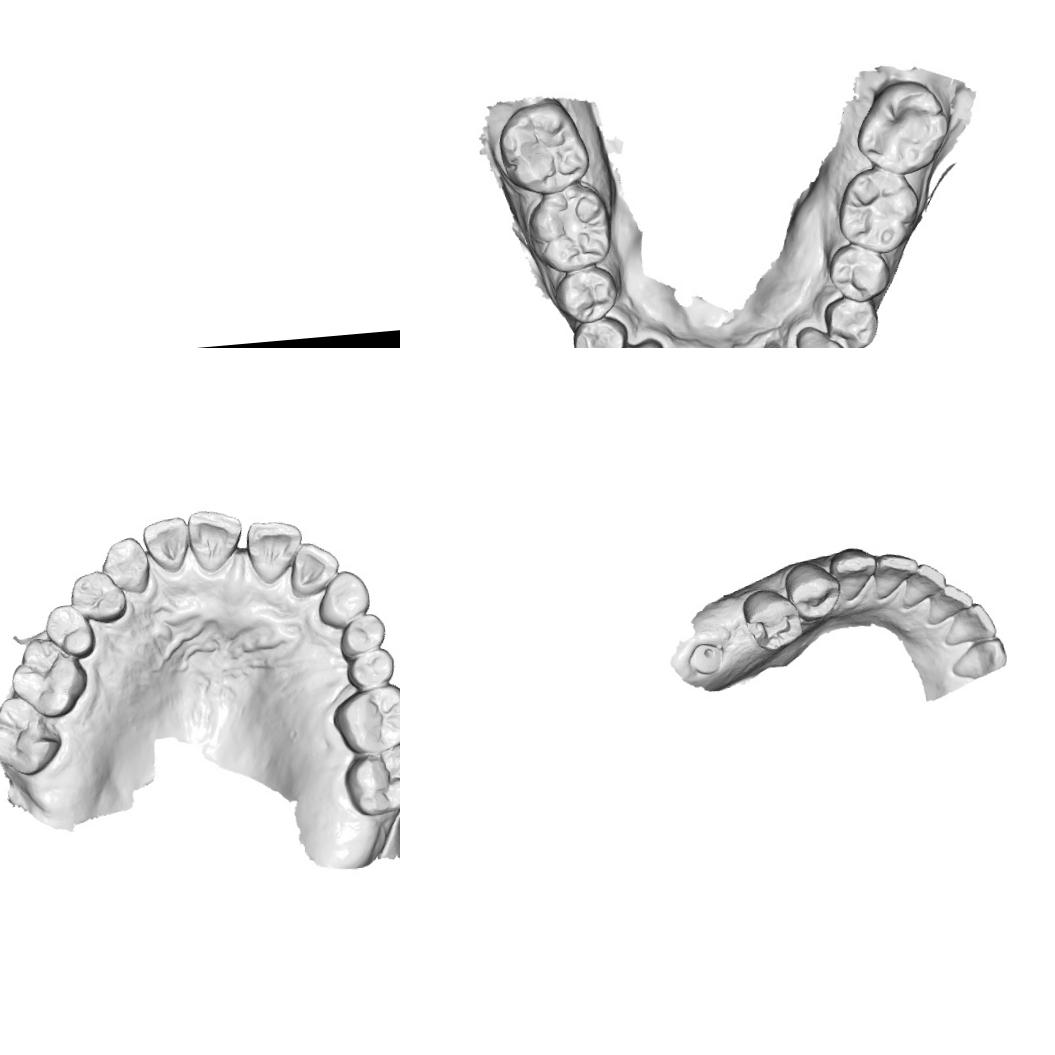canine: (97, 534, 152, 598), (314, 567, 372, 627), (826, 545, 879, 602), (948, 636, 1008, 680), (792, 321, 849, 348)
implant: (685, 639, 726, 676)
incisor: (244, 516, 307, 585), (184, 506, 246, 574), (138, 514, 194, 576), (286, 538, 342, 597), (940, 599, 997, 647), (870, 550, 921, 600), (898, 562, 948, 608), (923, 582, 974, 625)
molar: (850, 75, 952, 180), (493, 94, 593, 200), (832, 159, 926, 258), (521, 181, 616, 276), (5, 633, 90, 721), (0, 690, 64, 778), (329, 680, 400, 757), (340, 740, 400, 819)
premolar: (738, 584, 805, 652), (826, 240, 894, 306), (552, 264, 621, 324), (782, 558, 843, 623), (66, 566, 128, 626), (820, 292, 881, 348), (42, 598, 97, 659), (334, 611, 387, 658), (343, 645, 396, 690), (569, 312, 631, 348)
